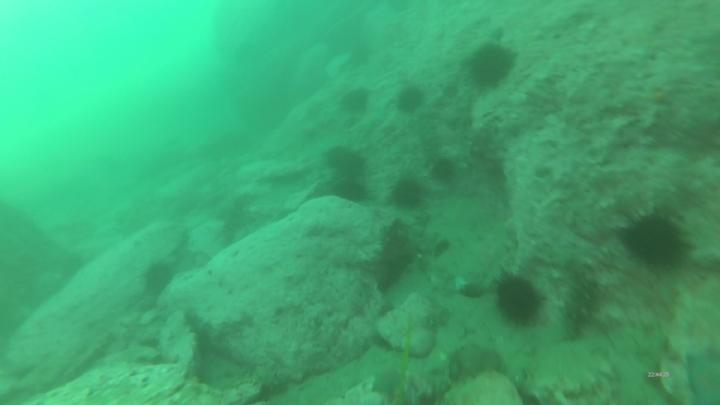echinus: (619, 206, 692, 278), (493, 267, 548, 326), (466, 42, 518, 94), (379, 235, 418, 288), (326, 143, 367, 177), (392, 177, 430, 212), (330, 177, 371, 206), (143, 263, 176, 295), (395, 86, 429, 117), (341, 87, 374, 117), (430, 157, 458, 187)
holothurian: (559, 260, 604, 344)
